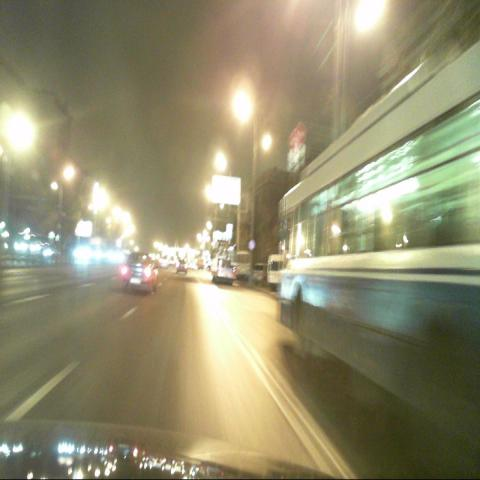3_1: (295, 123, 306, 142)
